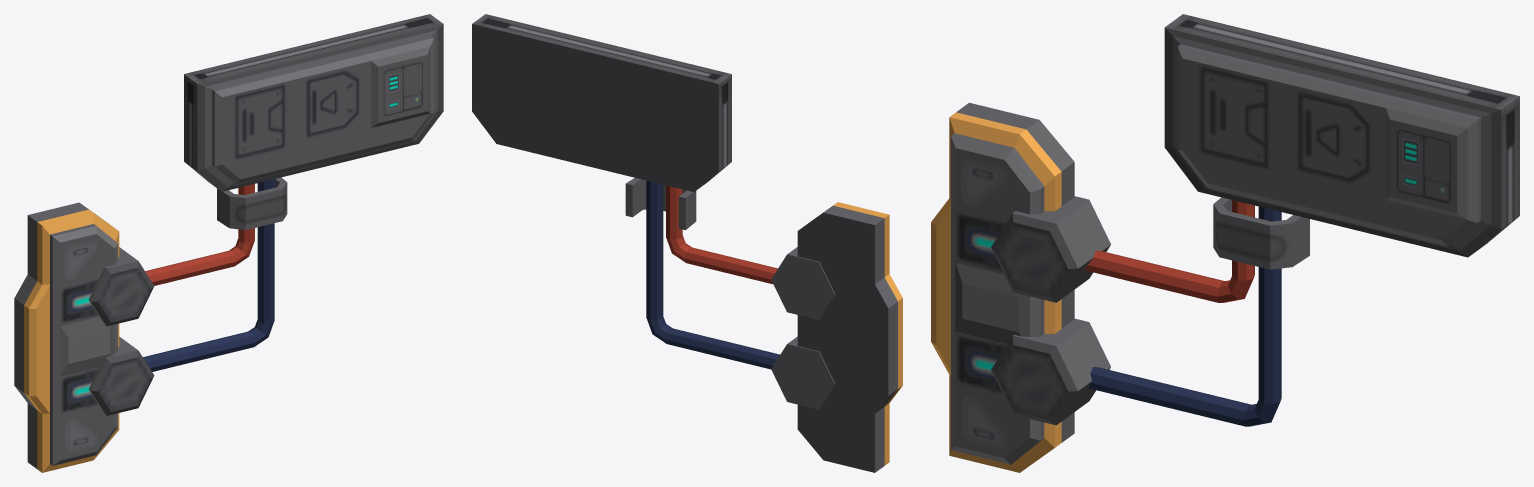
The model's file is SM_Prop_Greebles_20.fbx.
The picture shows the model from 3 angles, left to right: view 1: azimuth 30°, elevation 25°; view 2: azimuth 150°, elevation 25°; view 3: azimuth 330°, elevation 25°; orthographic projection. The views are drawn at different scales.
Visible parts, largest first — view 1: SM_Prop_Greebles_20; view 2: SM_Prop_Greebles_20; view 3: SM_Prop_Greebles_20.
Boxes of the visible parts, box(x1,y1,x2,y2) form: SM_Prop_Greebles_20: box(14, 14, 443, 472); SM_Prop_Greebles_20: box(472, 14, 902, 472); SM_Prop_Greebles_20: box(931, 14, 1519, 472).
Size of the model in its own units: 210 by 169 by 22.97.
